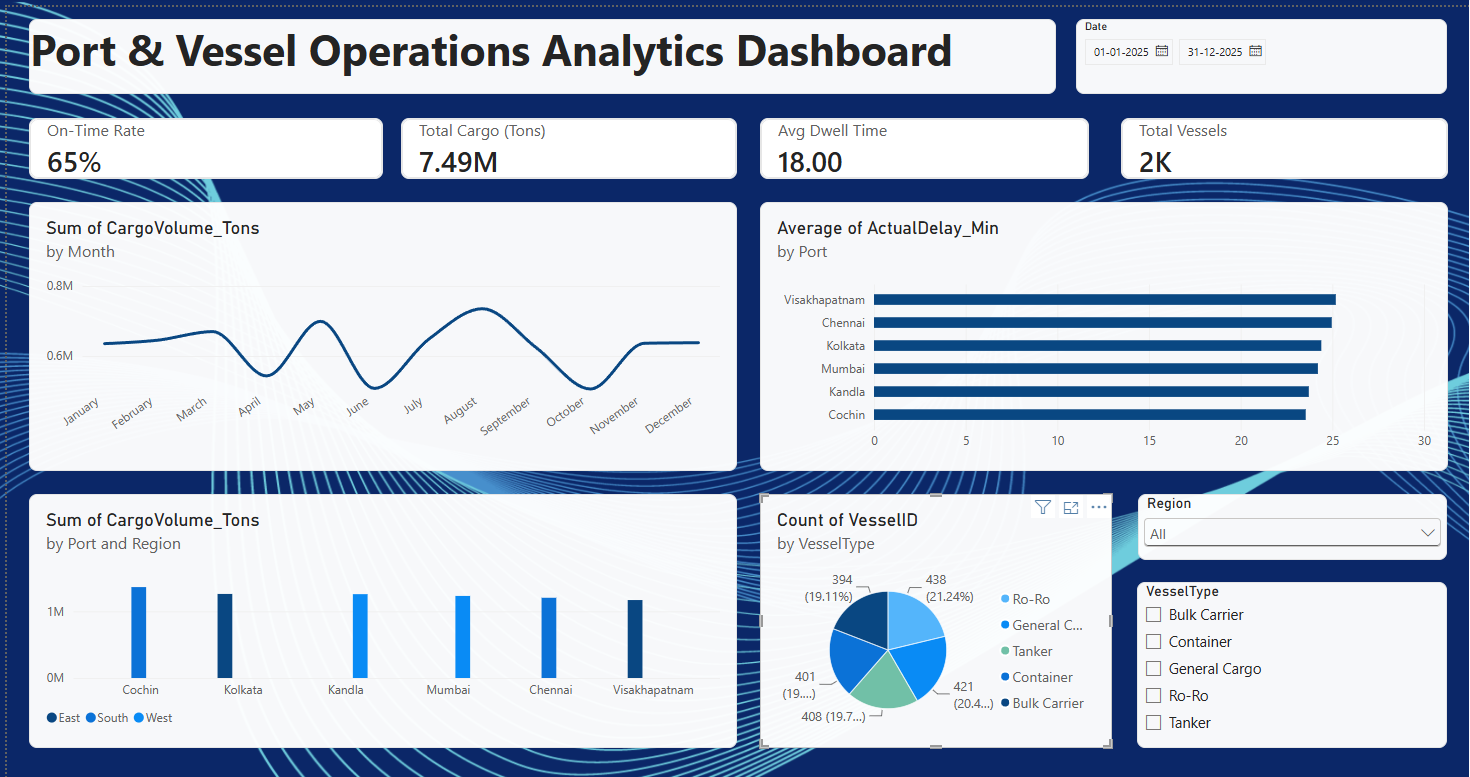

What the dashboard file says about the page in this screenshot:
{"tool":"powerbi","page":{"name":"Page 1","canvas":[1920,1080],"ordinal":0},"visuals":[{"type":"textbox","box":[22,12,1027,75],"z":0},{"type":"slicer","fields":{"Values":["port_vessel_operations.Date"]},"box":[1069,12,371,75],"z":1},{"type":"cardVisual","fields":{"Data":["port_vessel_operations.On-Time Rate"]},"box":[22,111,354,61],"z":2},{"type":"cardVisual","fields":{"Data":["port_vessel_operations.Total Cargo (Tons)"]},"box":[394,111,336,61],"z":3},{"type":"cardVisual","fields":{"Data":["port_vessel_operations.Avg Dwell Time"]},"box":[753,111,329,61],"z":4},{"type":"cardVisual","fields":{"Data":["port_vessel_operations.Total Vessels"]},"box":[1114,111,327,61],"z":5},{"type":"lineChart","fields":{"Category":["port_vessel_operations.Date.Variation.Date Hierarchy.Month"],"Y":["Sum(port_vessel_operations.CargoVolume_Tons)"]},"box":[22,195,708,269],"z":6},{"type":"barChart","fields":{"Category":["port_vessel_operations.Port"],"Y":["Avg(port_vessel_operations.ActualDelay_Min)"]},"box":[753,195,688,269],"z":7},{"type":"slicer","fields":{"Values":["port_vessel_operations.Region"]},"box":[1182,487,258,67],"z":9},{"type":"clusteredColumnChart","fields":{"Category":["port_vessel_operations.Port"],"Series":["port_vessel_operations.Region"],"Y":["Sum(port_vessel_operations.CargoVolume_Tons)"]},"box":[22,487,708,254],"z":11},{"type":"slicer","fields":{"Values":["port_vessel_operations.VesselType"]},"box":[1182,575,258,166],"z":12},{"type":"pieChart","fields":{"Category":["port_vessel_operations.VesselType"],"Y":["CountNonNull(port_vessel_operations.VesselID)"]},"box":[753,487,406,254],"z":13}]}

Visuals, with their boxes on the page's 1920x1080 design canvas (x1, y1, x2, y2). These are canvas units, not pixel positions in the 1470x777 screenshot, which may show the page scaled, cropped or inside an application window:
textbox: x1=22, y1=12, x2=1049, y2=87
slicer - port_vessel_operations.Date: x1=1069, y1=12, x2=1440, y2=87
cardVisual - port_vessel_operations.On-Time Rate: x1=22, y1=111, x2=376, y2=172
cardVisual - port_vessel_operations.Total Cargo (Tons): x1=394, y1=111, x2=730, y2=172
cardVisual - port_vessel_operations.Avg Dwell Time: x1=753, y1=111, x2=1082, y2=172
cardVisual - port_vessel_operations.Total Vessels: x1=1114, y1=111, x2=1441, y2=172
lineChart - port_vessel_operations.Date.Variation.Date Hierarchy.Month x Sum(port_vessel_operations.CargoVolume_Tons): x1=22, y1=195, x2=730, y2=464
barChart - port_vessel_operations.Port x Avg(port_vessel_operations.ActualDelay_Min): x1=753, y1=195, x2=1441, y2=464
slicer - port_vessel_operations.Region: x1=1182, y1=487, x2=1440, y2=554
clusteredColumnChart - port_vessel_operations.Port x port_vessel_operations.Region: x1=22, y1=487, x2=730, y2=741
slicer - port_vessel_operations.VesselType: x1=1182, y1=575, x2=1440, y2=741
pieChart - port_vessel_operations.VesselType x CountNonNull(port_vessel_operations.VesselID): x1=753, y1=487, x2=1159, y2=741
